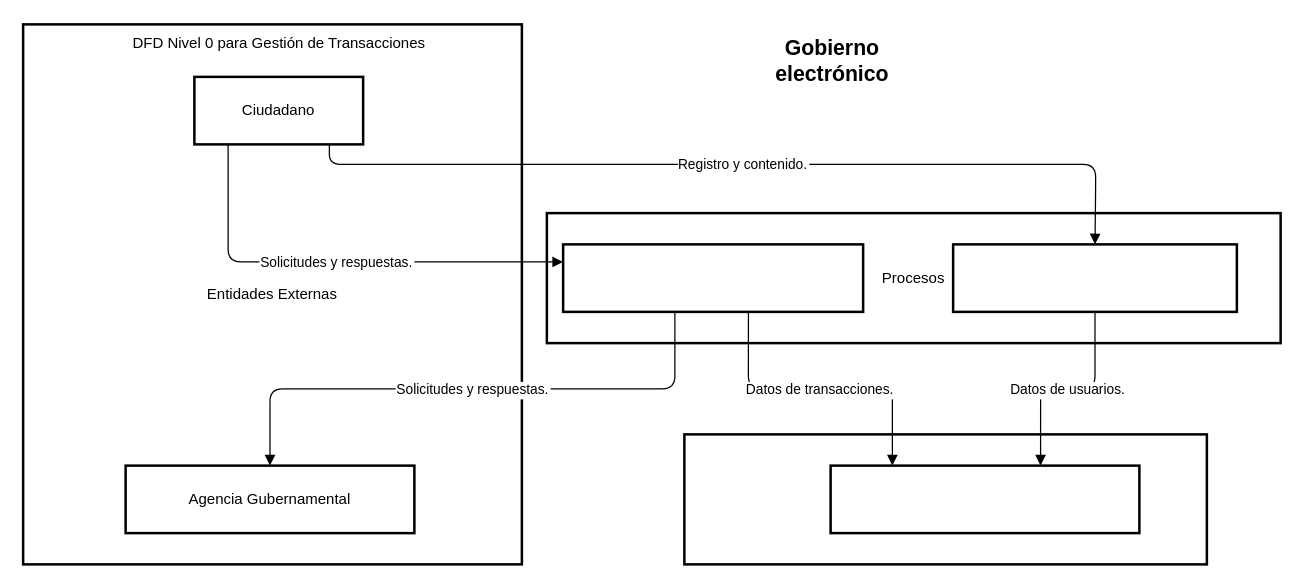
This 1303x588 diagram has some shape labels left out. Here are the shapes that lost their labels. From the top down, the centre of each, then its label:
At point 712,277: "Gestión de Transacciones".
At point 1094,277: "Gestión de Información".
At point 984,499: "Base de Datos del Sistema".
